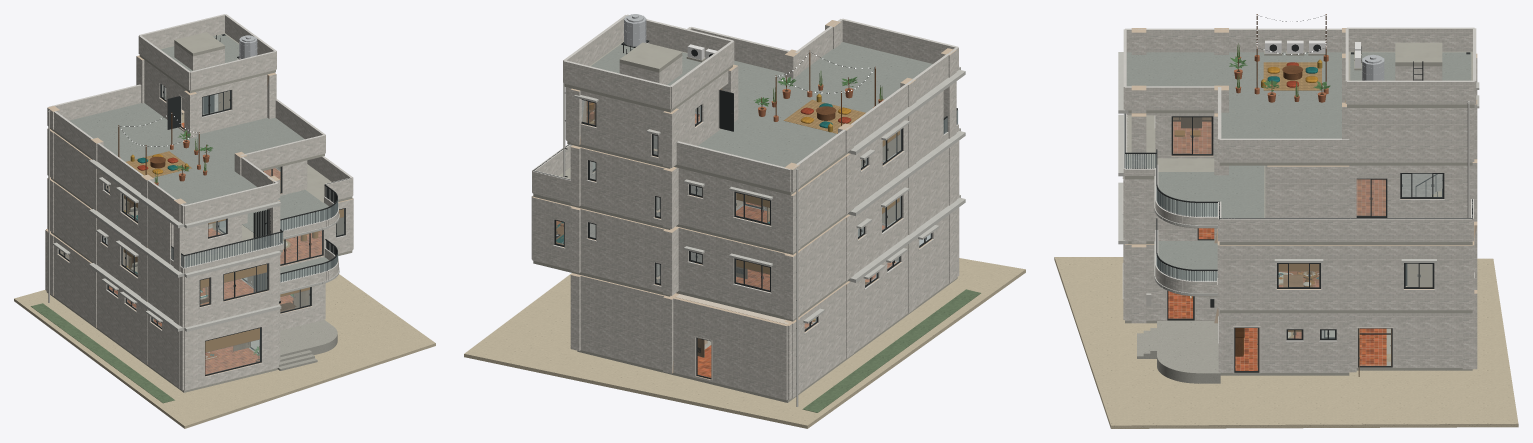
Rendered from bohemian.glb.
The picture shows the model from 3 angles, left to right: view 1: azimuth 30°, elevation 25°; view 2: azimuth 150°, elevation 25°; view 3: azimuth 270°, elevation 25°; orthographic projection. The views are drawn at different scales.
Parts seen in each view (by area): view 1: SITE_site_ground, FLOOR_1_wall_facade, FLOOR_4_floor_finish_terrace, FLOOR_2_wall_facade, FLOOR_4_parapet_facade, FLOOR_3_wall_facade, ROOF_parapet_facade, FLOOR_4_wall_facade, FLOOR_3_railing_metal, FLOOR_1_window_glass, SITE_site_porch, FLOOR_4_column_facade (+37 smaller); view 2: FLOOR_1_wall_facade, FLOOR_2_wall_facade, SITE_site_ground, FLOOR_3_wall_facade, FLOOR_4_floor_finish_terrace, FLOOR_4_parapet_facade, ROOF_parapet_facade, FLOOR_4_wall_facade, FLOOR_2_column_facade, FLOOR_3_column_facade, FLOOR_1_column_facade, FLOOR_4_column_facade (+28 smaller); view 3: SITE_site_ground, FLOOR_2_wall_facade, FLOOR_1_wall_facade, FLOOR_4_floor_finish_terrace, FLOOR_3_wall_facade, FLOOR_4_parapet_facade, FLOOR_4_wall_facade, FLOOR_3_parapet_facade, ROOF_parapet_facade, FLOOR_3_floor_finish_terrace, SITE_site_porch, FLOOR_3_slab_slab (+36 smaller).
Part boxes in pixels (box(x1,y1,x2,y2)): SITE_site_ground: box(14, 274, 435, 428); FLOOR_1_wall_facade: box(45, 229, 325, 390); FLOOR_4_floor_finish_terrace: box(69, 103, 304, 204); FLOOR_2_wall_facade: box(53, 182, 353, 327); FLOOR_4_parapet_facade: box(54, 85, 325, 224); FLOOR_3_wall_facade: box(53, 110, 307, 263); ROOF_parapet_facade: box(138, 15, 276, 90); FLOOR_4_wall_facade: box(144, 60, 267, 134); FLOOR_3_railing_metal: box(171, 178, 351, 267); FLOOR_1_window_glass: box(60, 250, 309, 374); SITE_site_porch: box(251, 320, 337, 370); FLOOR_4_column_facade: box(47, 56, 280, 222); FLOOR_1_wall_facade: box(580, 207, 959, 400); FLOOR_2_wall_facade: box(531, 141, 959, 316); SITE_site_ground: box(464, 258, 1025, 428); FLOOR_3_wall_facade: box(580, 91, 943, 249); FLOOR_4_floor_finish_terrace: box(698, 42, 932, 167); FLOOR_4_parapet_facade: box(566, 20, 958, 191); ROOF_parapet_facade: box(563, 18, 734, 109); FLOOR_4_wall_facade: box(565, 71, 728, 164); FLOOR_2_column_facade: box(570, 142, 956, 319); FLOOR_3_column_facade: box(570, 81, 956, 253); FLOOR_1_column_facade: box(570, 209, 956, 397); FLOOR_4_column_facade: box(570, 22, 956, 191); SITE_site_ground: box(1054, 257, 1518, 428); FLOOR_2_wall_facade: box(1123, 176, 1474, 310); FLOOR_1_wall_facade: box(1123, 244, 1462, 372); FLOOR_4_floor_finish_terrace: box(1126, 52, 1341, 138); FLOOR_3_wall_facade: box(1155, 113, 1462, 217); FLOOR_4_parapet_facade: box(1123, 30, 1349, 162); FLOOR_4_wall_facade: box(1347, 108, 1474, 162); FLOOR_3_parapet_facade: box(1123, 113, 1473, 241); ROOF_parapet_facade: box(1345, 29, 1476, 104); FLOOR_3_floor_finish_terrace: box(1158, 165, 1264, 217); SITE_site_porch: box(1137, 321, 1220, 383); FLOOR_3_slab_slab: box(1125, 115, 1472, 245).
Bounding box in the file's own units: 19.1 × 16.92 × 22.2.
48 materials, 29 textured.
